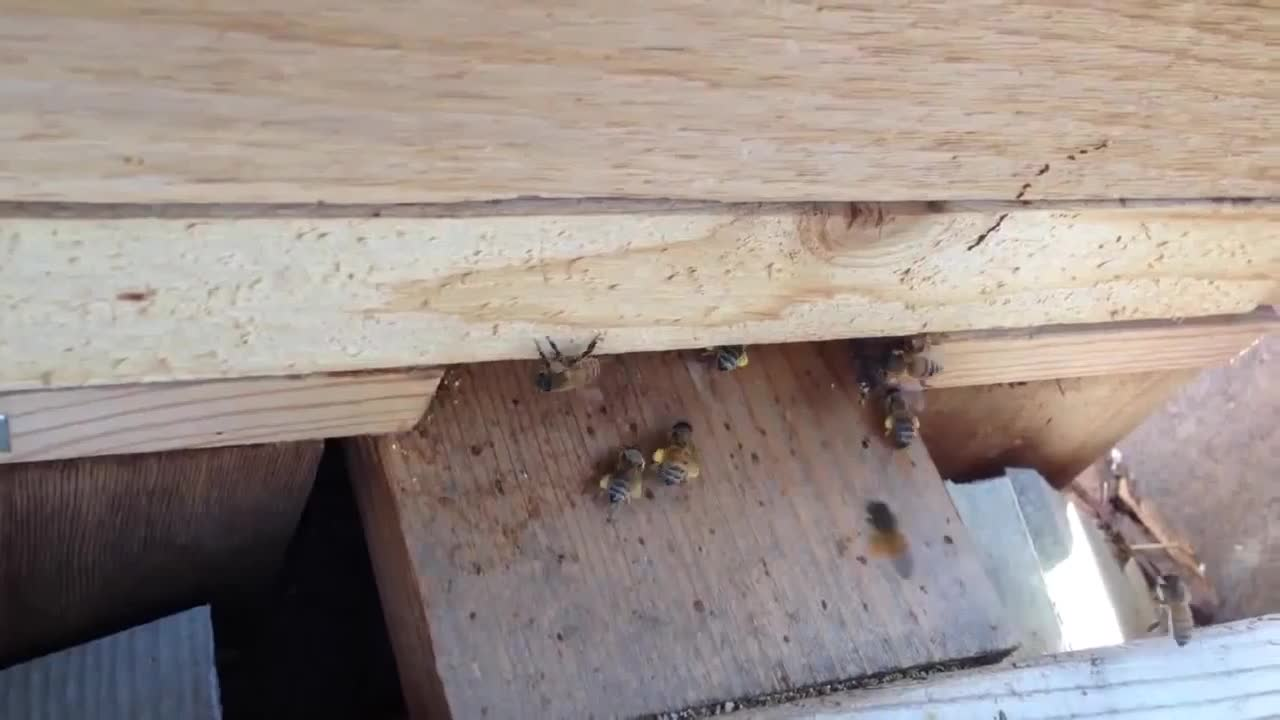pollen: (650, 409, 706, 492), (593, 437, 647, 515), (873, 387, 925, 451)
